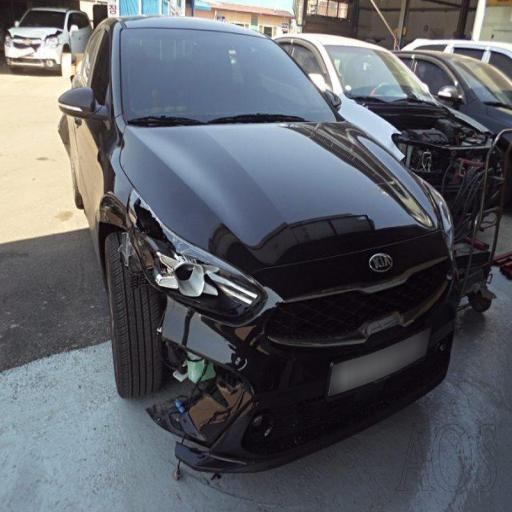broken: (124, 174, 318, 459)
